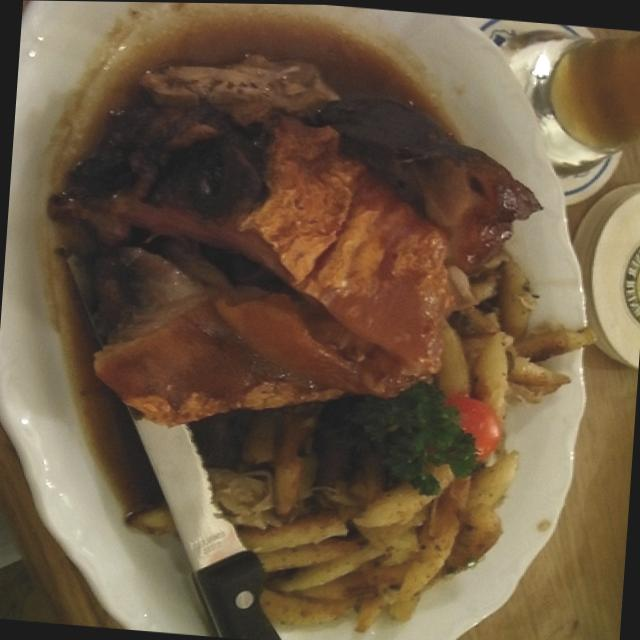猪肉菜式: (27, 17, 593, 624)
